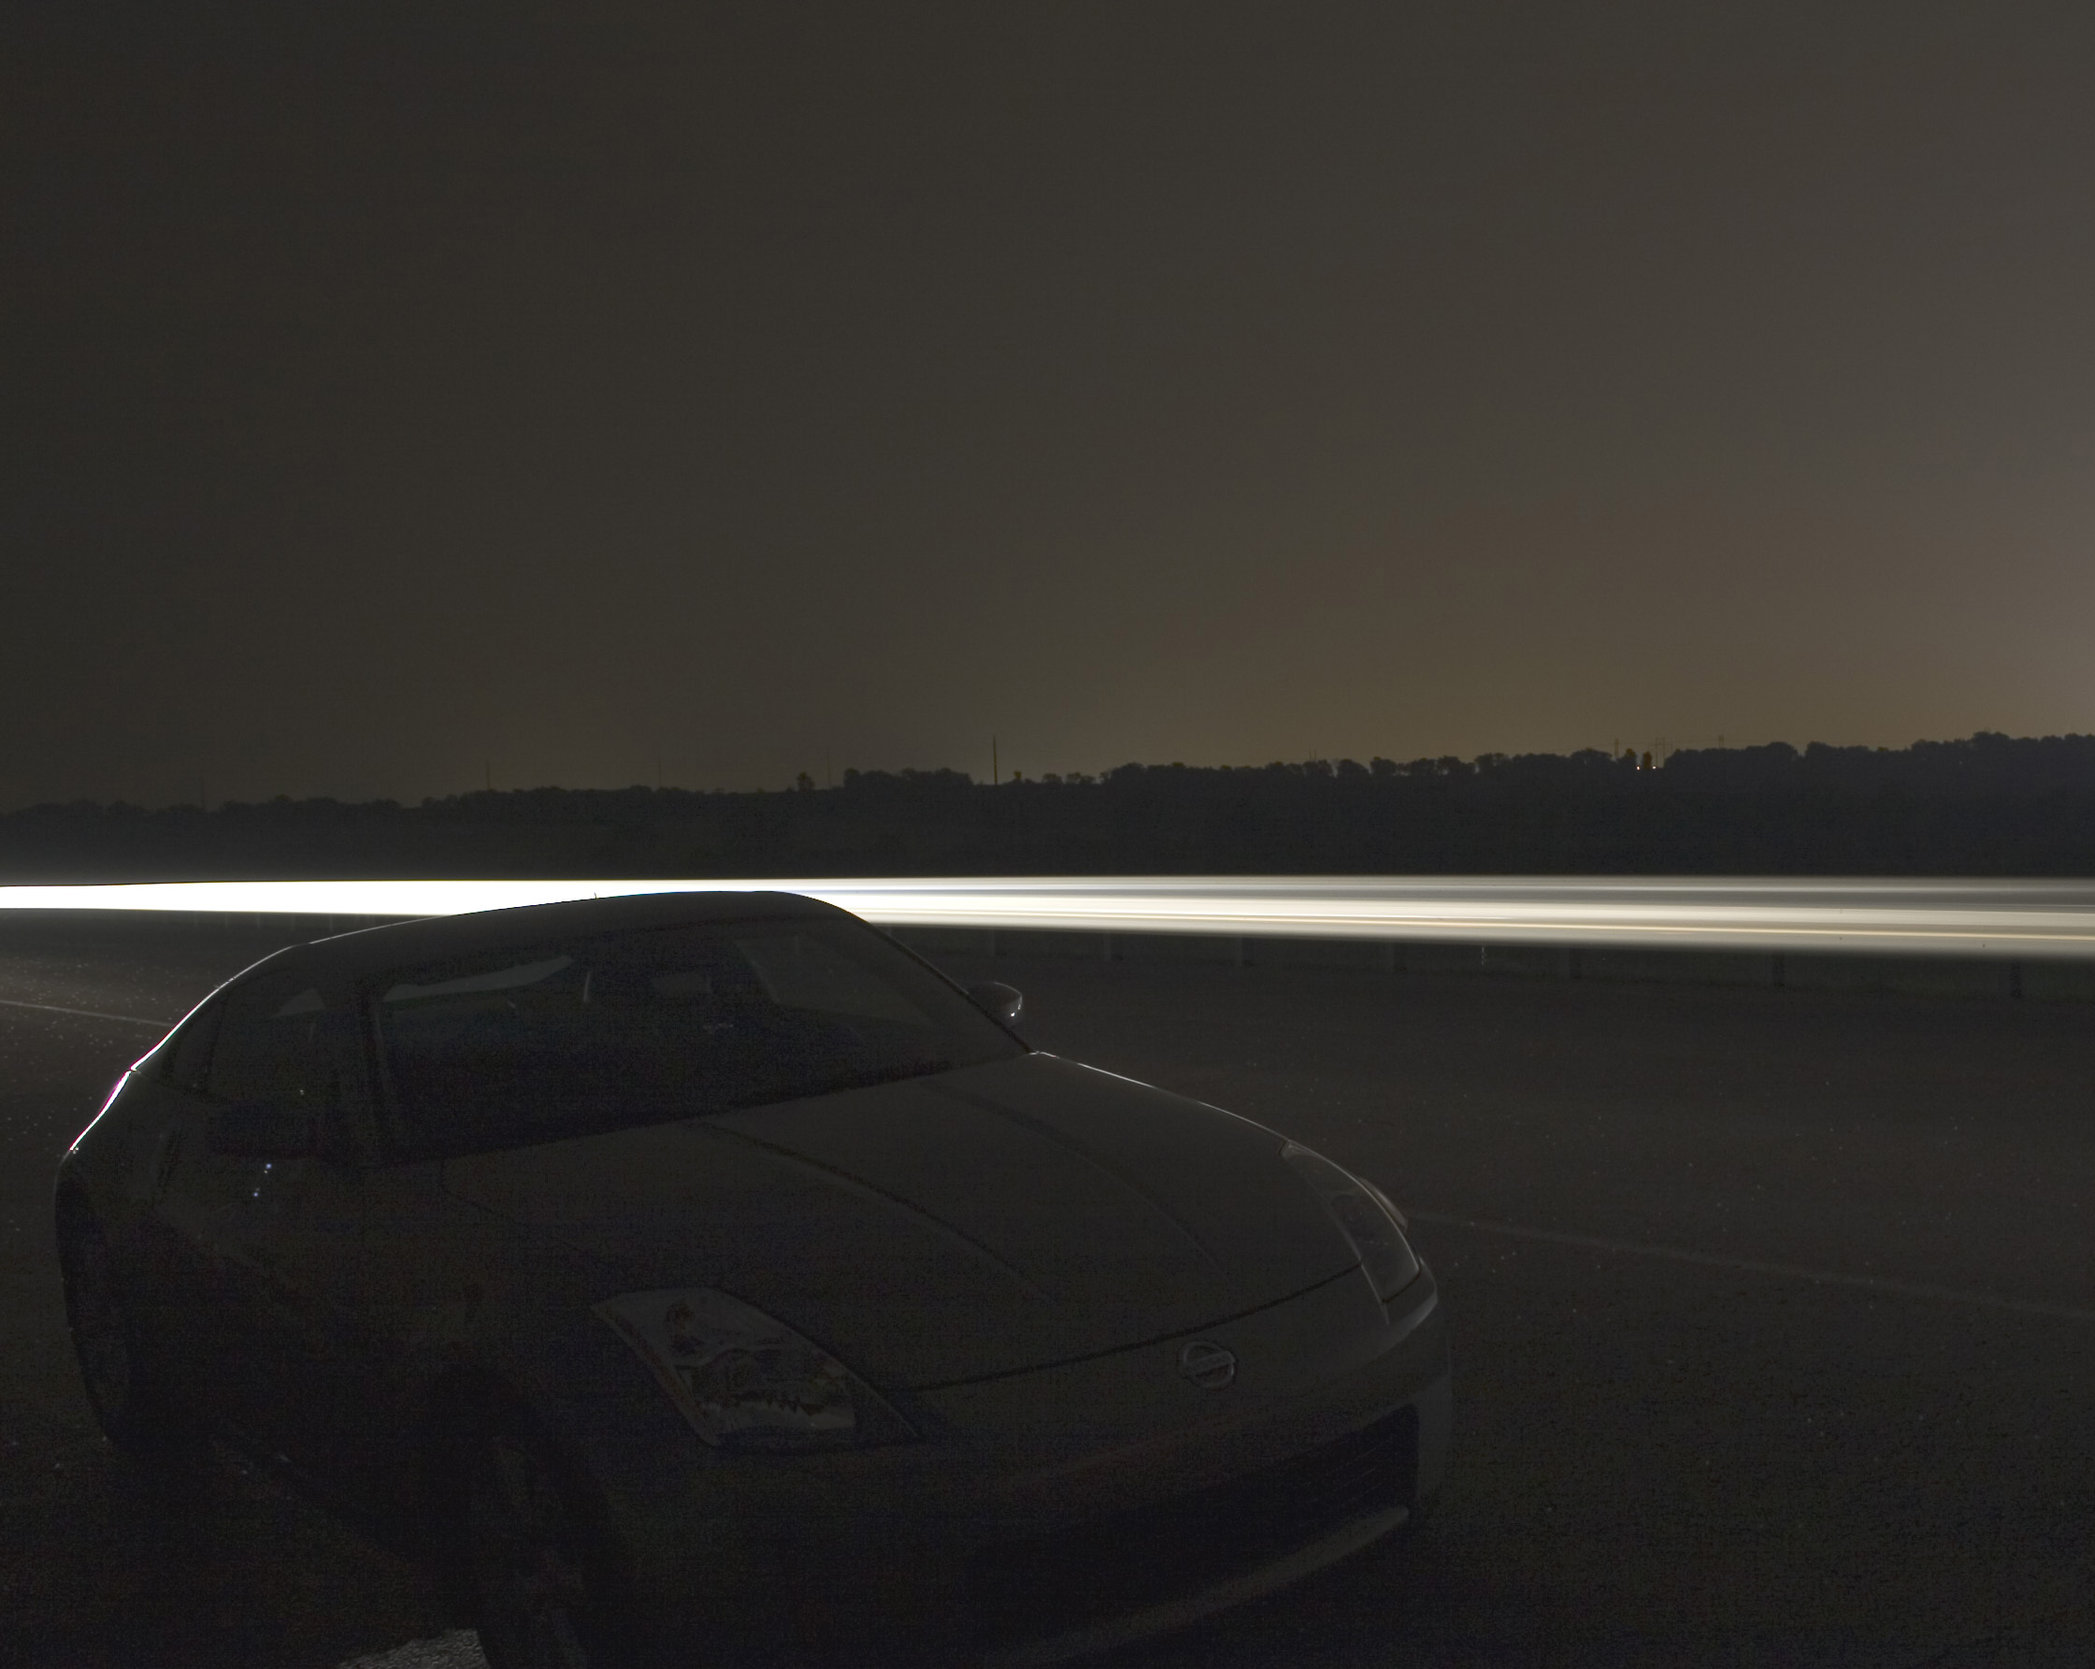car: (44, 875, 1475, 1655)
